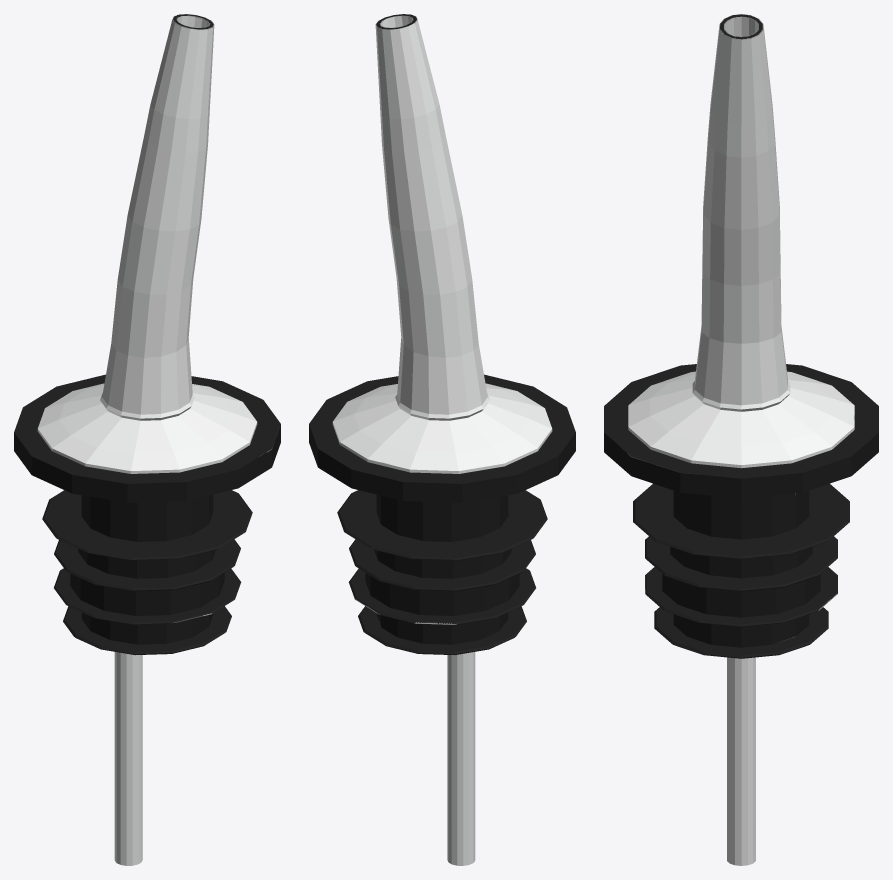
The model's file is Bottlepourer.fbx.
3 renders of one model, left to right at view 1: azimuth 30°, elevation 25°; view 2: azimuth 150°, elevation 25°; view 3: azimuth 270°, elevation 25°, orthographic. The views are drawn at different scales.
Visible parts, largest first — view 1: Pourer; view 2: Pourer; view 3: Pourer.
Part boxes in pixels (<box>): Pourer: <box>14,14,280,865</box>; Pourer: <box>309,14,575,865</box>; Pourer: <box>604,14,878,865</box>.
Size of the model in its own units: 0.0318 by 0.1083 by 0.031.
1 material, 1 textured.
